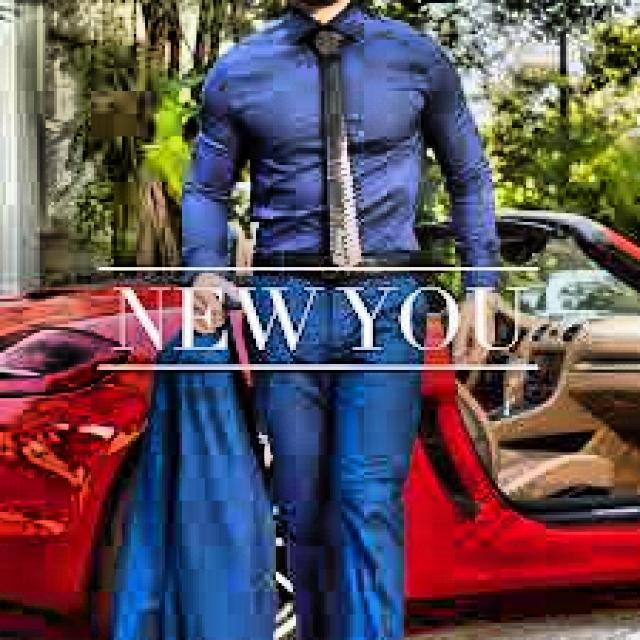Tie: (307, 26, 361, 264)
